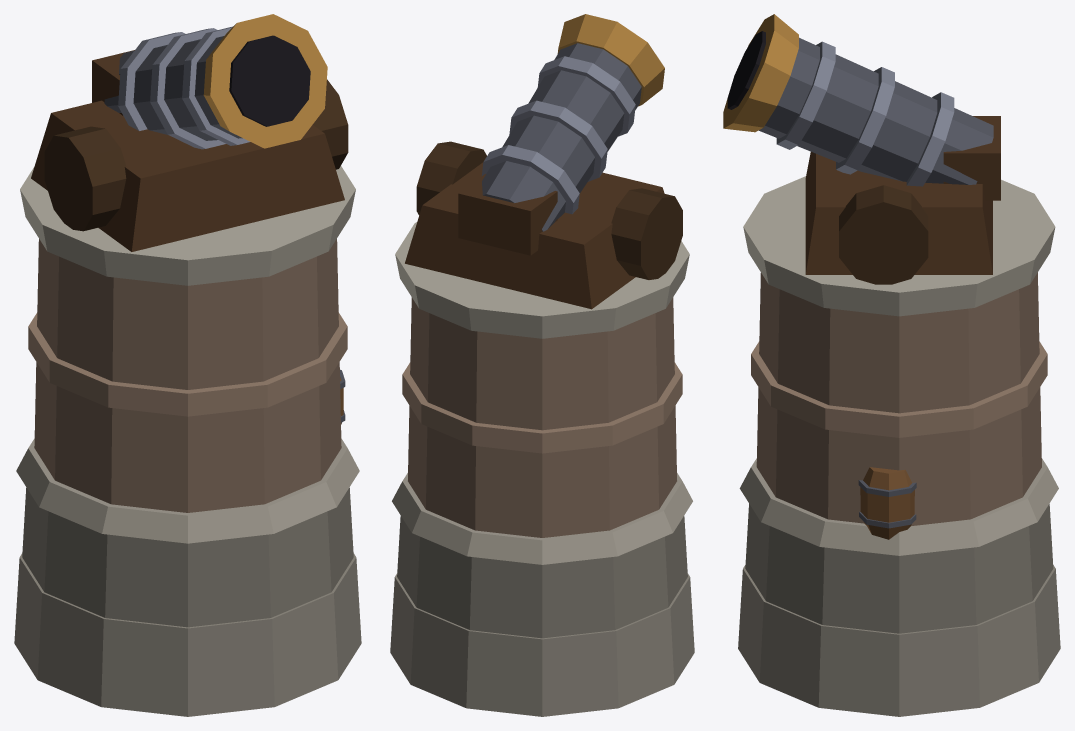
Rendered from tower_cannon_l2.glb.
3 renders of one model, left to right at view 1: azimuth 30°, elevation 25°; view 2: azimuth 150°, elevation 25°; view 3: azimuth 270°, elevation 25°, orthographic. The views are drawn at different scales.
Visible parts, largest first — view 1: Body, Turret; view 2: Body, Turret; view 3: Body, Turret.
Boxes of the visible parts, <box> form: Body: <box>14,166,361,716</box>; Turret: <box>31,14,348,251</box>; Body: <box>390,222,694,716</box>; Turret: <box>405,14,682,309</box>; Body: <box>738,176,1060,716</box>; Turret: <box>723,14,1000,284</box>.
Bounding box in the file's own units: 0.62 × 1.33 × 0.6483.
